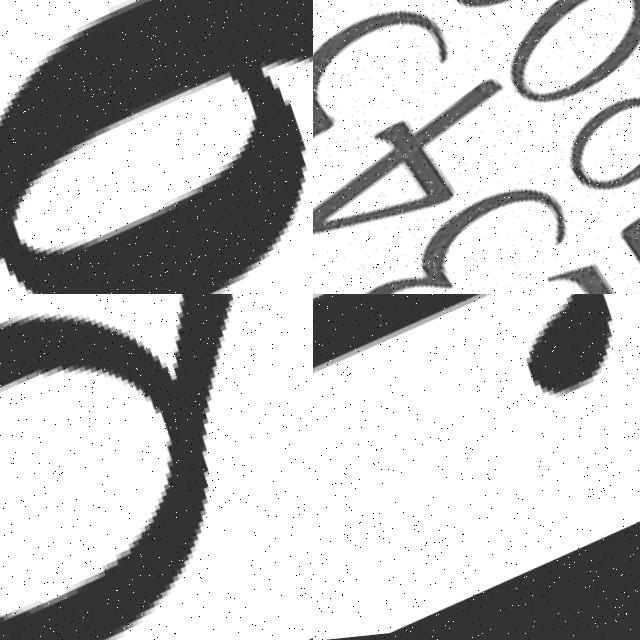0: (407, 0, 640, 55)
2: (365, 236, 640, 294)
3: (313, 150, 600, 294)
4: (313, 44, 557, 294)
5: (313, 0, 476, 207)
8: (527, 0, 640, 238)
9: (0, 0, 313, 294), (464, 0, 640, 150)
J: (313, 294, 639, 601)
Q: (0, 294, 313, 640)
